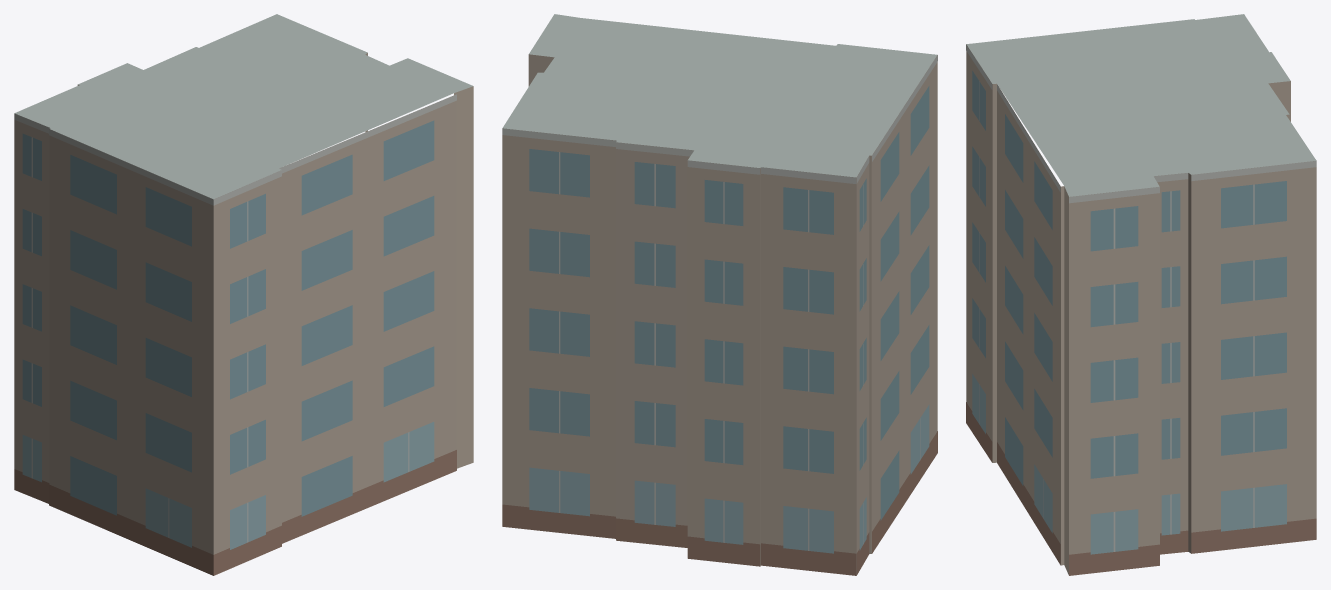
The model's file is survey-upis-32654550.glb.
3 views of the same model, side by side, from view 1: azimuth 30°, elevation 25°; view 2: azimuth 150°, elevation 25°; view 3: azimuth 270°, elevation 25° (orthographic). The views are drawn at different scales.
Visible parts, largest first — view 1: survey-upis-32654550.tmp; view 2: survey-upis-32654550.tmp; view 3: survey-upis-32654550.tmp.
Part boxes in pixels (left/top/right/bottom): survey-upis-32654550.tmp: left=14, top=14, right=473, bottom=575; survey-upis-32654550.tmp: left=502, top=14, right=937, bottom=575; survey-upis-32654550.tmp: left=966, top=14, right=1316, bottom=575.
Bounding box in the file's own units: 14.97 × 14.45 × 12.12.
